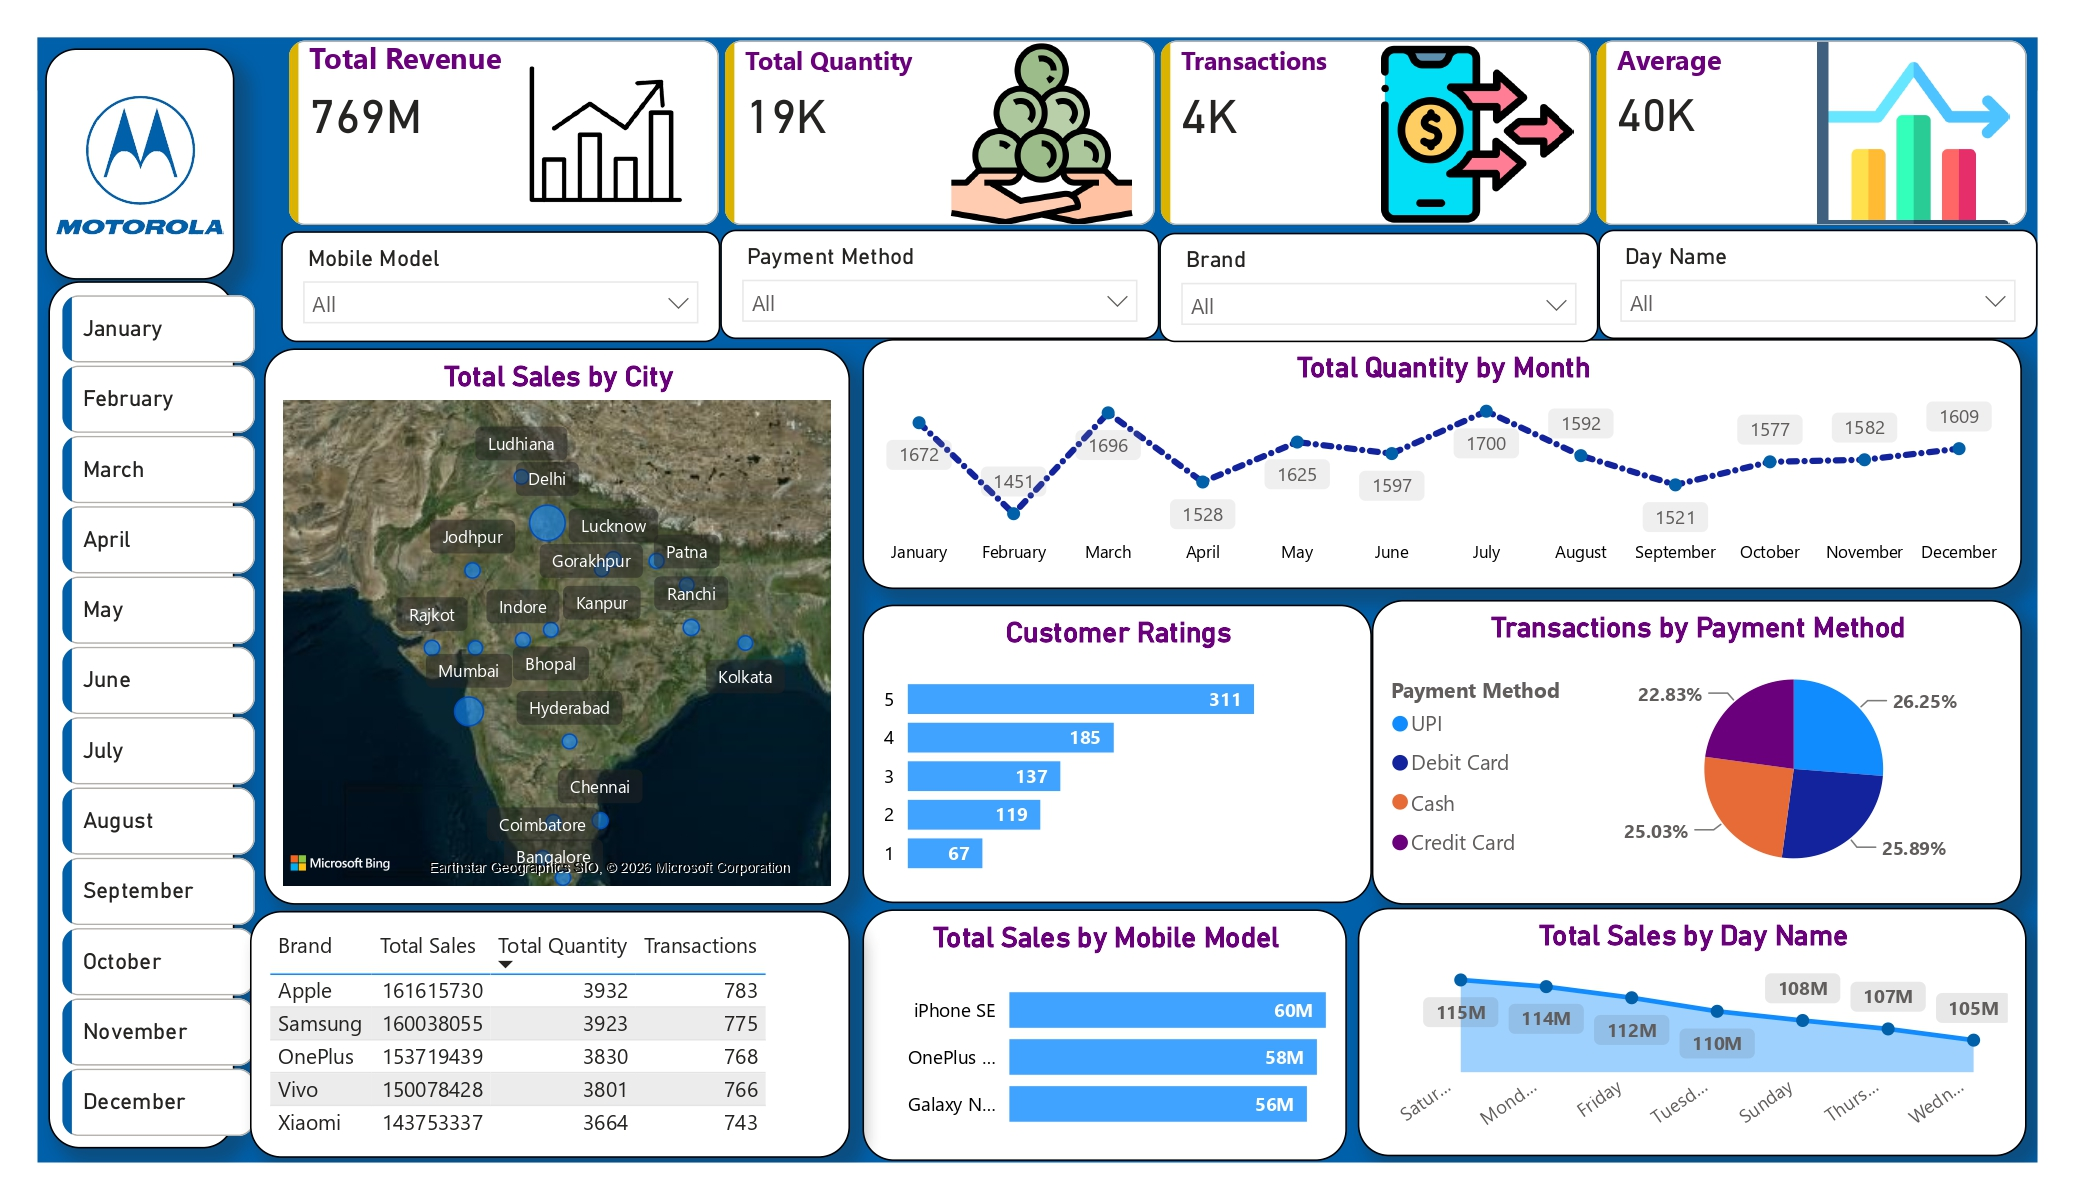

This screenshot's page, from the dashboard's own definition file:
{"tool":"powerbi","page":{"name":"Page 1","canvas":[1280,720],"ordinal":0},"visuals":[{"type":"shape","box":[5,7.5,140,141.2],"z":0},{"type":"image","box":[12.5,13.8,125,130],"z":1000},{"type":"shape","box":[7.5,175,118.8,536.2],"z":2000},{"type":"advancedSlicerVisual","fields":{"Values":["Sales_Data.Date.Variation.Date Hierarchy.Month"]},"box":[5,161.2,137.5,558.8],"z":3000},{"type":"cardVisual","fields":{"Data":["Sales_Data.Total Sales","Sales_Data.Total Quantity","Sales_Data.Transactions","Sales_Data.Average"]},"box":[155.6,2.4,1124.4,123.1],"z":4000},{"type":"map","fields":{"Category":["Sales_Data.City"],"Size":["Sales_Data.Total Sales"]},"box":[144.8,199.1,375.2,355.9],"z":5000},{"type":"lineChart","fields":{"Y":["Sales_Data.Total Quantity"],"Category":["Sales_Data.Date.Variation.Date Hierarchy.Month","Sales_Data.Date.Variation.Date Hierarchy.Day"]},"box":[528.4,193,742,160.5],"z":6000},{"type":"clusteredBarChart","fields":{"Category":["Sales_Data.Mobile Model"],"Y":["Sales_Data.Total Sales"]},"box":[528.3,558.5,310.1,160.5],"z":7000},{"type":"pieChart","fields":{"Category":["Sales_Data.Payment Method"],"Y":["Sales_Data.Transactions"]},"box":[854.2,359.5,416.2,195.4],"z":8000},{"type":"clusteredBarChart","title":"Customer Ratings","fields":{"Category":["Sales_Data.Customer Ratings"],"Y":["CountNonNull(Sales_Data.Customer Ratings)"]},"box":[528.4,363.1,325.7,190.6],"z":9000},{"type":"areaChart","fields":{"Category":["Sales_Data.Day Name"],"Y":["Sales_Data.Total Sales"]},"box":[845.3,557.1,428.1,159.2],"z":10000},{"type":"tableEx","fields":{"Values":["Sales_Data.Brand","Sales_Data.Total Sales","Sales_Data.Total Quantity","Sales_Data.Transactions"]},"box":[136.3,558.6,383.6,158],"z":11000},{"type":"slicer","fields":{"Values":["Sales_Data.Mobile Model"]},"box":[155.6,124.3,281.1,71.2],"z":12000},{"type":"slicer","fields":{"Values":["Sales_Data.Payment Method"]},"box":[436.7,123.1,281.1,70],"z":13000},{"type":"slicer","fields":{"Values":["Sales_Data.Brand"]},"box":[717.8,125.5,281.1,70],"z":14000},{"type":"slicer","fields":{"Values":["Sales_Data.Day Name"]},"box":[998.9,123.1,281.1,70],"z":15000}]}

Visuals, with their boxes in screenshot pixels (x1, y1, x2, y2):
shape: {"left": 51, "top": 49, "right": 267, "bottom": 267}
image: {"left": 63, "top": 59, "right": 255, "bottom": 260}
shape: {"left": 55, "top": 308, "right": 238, "bottom": 1135}
advancedSlicerVisual - Sales_Data.Date.Variation.Date Hierarchy.Month: {"left": 51, "top": 286, "right": 263, "bottom": 1148}
cardVisual - Sales_Data.Total Sales x Sales_Data.Total Quantity: {"left": 283, "top": 42, "right": 2017, "bottom": 231}
map - Sales_Data.City x Sales_Data.Total Sales: {"left": 267, "top": 345, "right": 845, "bottom": 894}
lineChart - Sales_Data.Total Quantity x Sales_Data.Date.Variation.Date Hierarchy.Month: {"left": 858, "top": 335, "right": 2002, "bottom": 583}
clusteredBarChart - Sales_Data.Mobile Model x Sales_Data.Total Sales: {"left": 858, "top": 899, "right": 1336, "bottom": 1147}
pieChart - Sales_Data.Payment Method x Sales_Data.Transactions: {"left": 1360, "top": 592, "right": 2002, "bottom": 893}
"Customer Ratings" clusteredBarChart: {"left": 858, "top": 598, "right": 1360, "bottom": 892}
areaChart - Sales_Data.Day Name x Sales_Data.Total Sales: {"left": 1347, "top": 897, "right": 2007, "bottom": 1142}
tableEx - Sales_Data.Brand x Sales_Data.Total Sales: {"left": 253, "top": 899, "right": 845, "bottom": 1143}
slicer - Sales_Data.Mobile Model: {"left": 283, "top": 230, "right": 717, "bottom": 339}
slicer - Sales_Data.Payment Method: {"left": 717, "top": 228, "right": 1150, "bottom": 336}
slicer - Sales_Data.Brand: {"left": 1150, "top": 231, "right": 1584, "bottom": 339}
slicer - Sales_Data.Day Name: {"left": 1584, "top": 228, "right": 2017, "bottom": 336}
